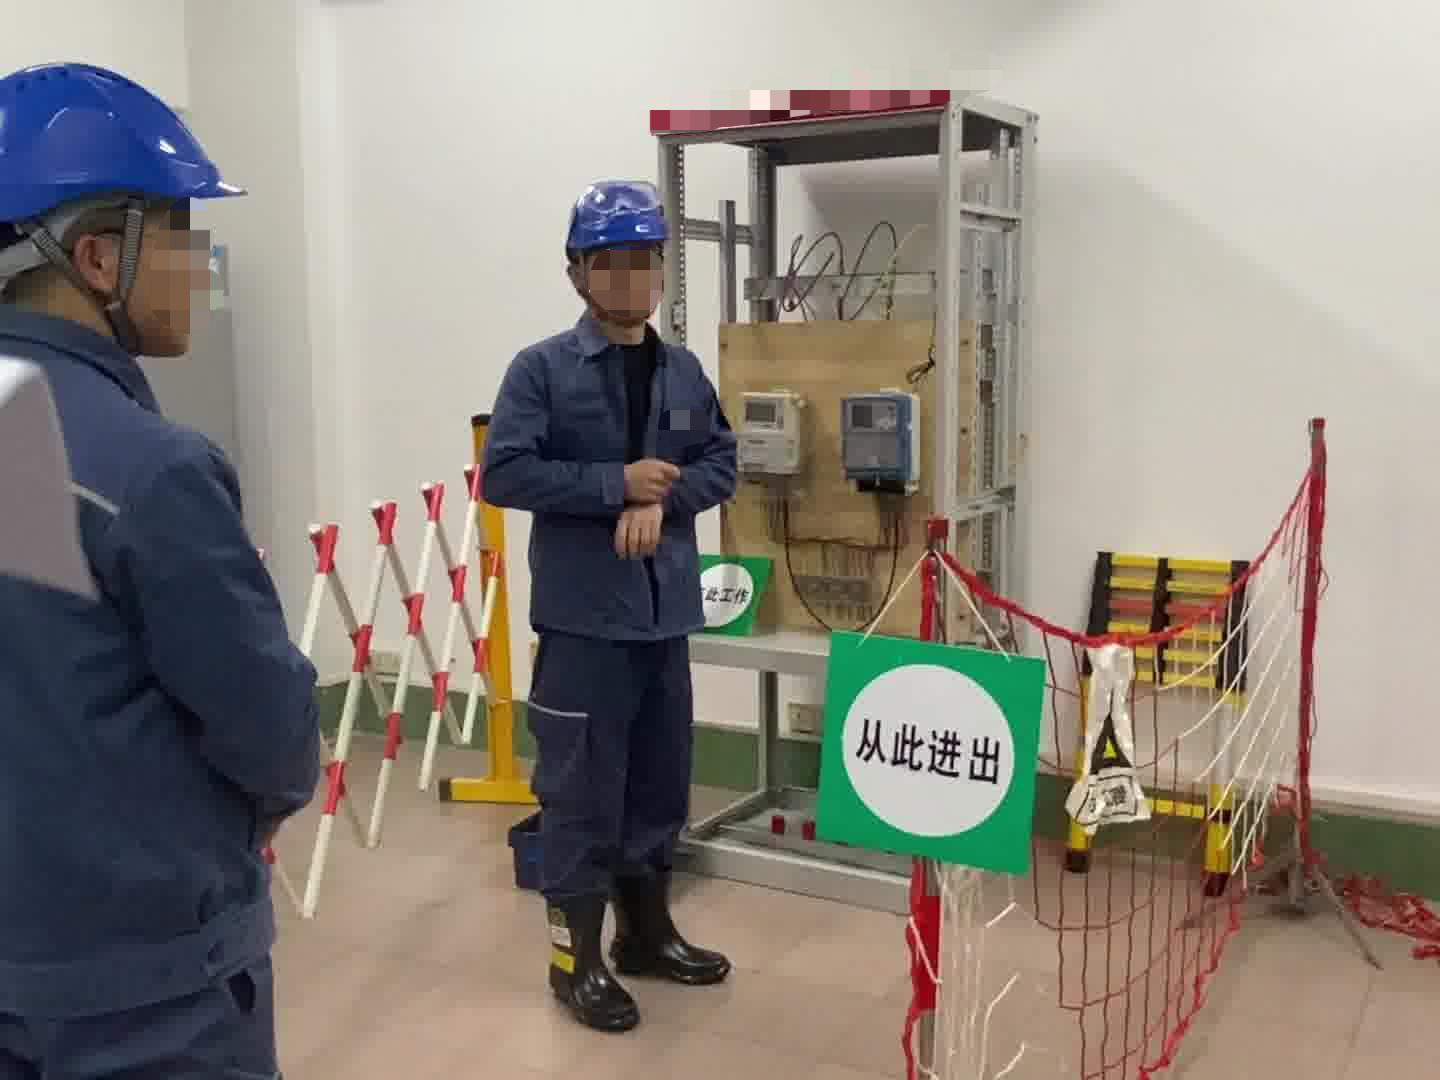halt: (1, 64, 245, 354), (564, 177, 678, 335)
inear: (42, 203, 160, 314)
